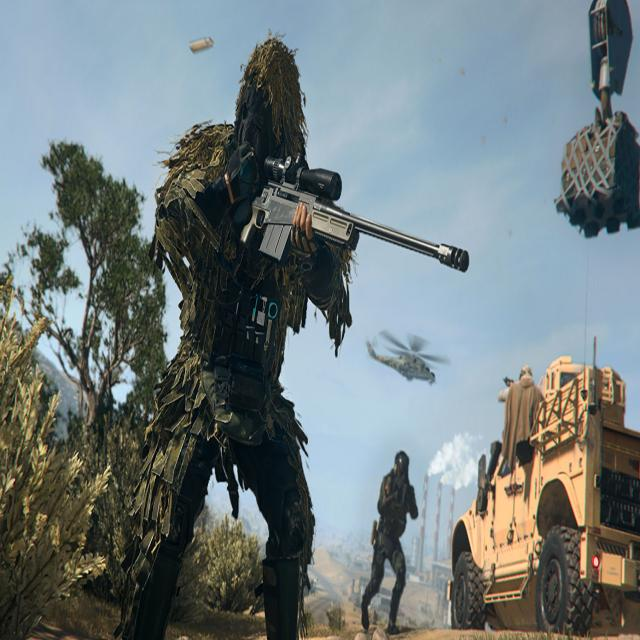Weapon: (241, 157, 469, 271)
